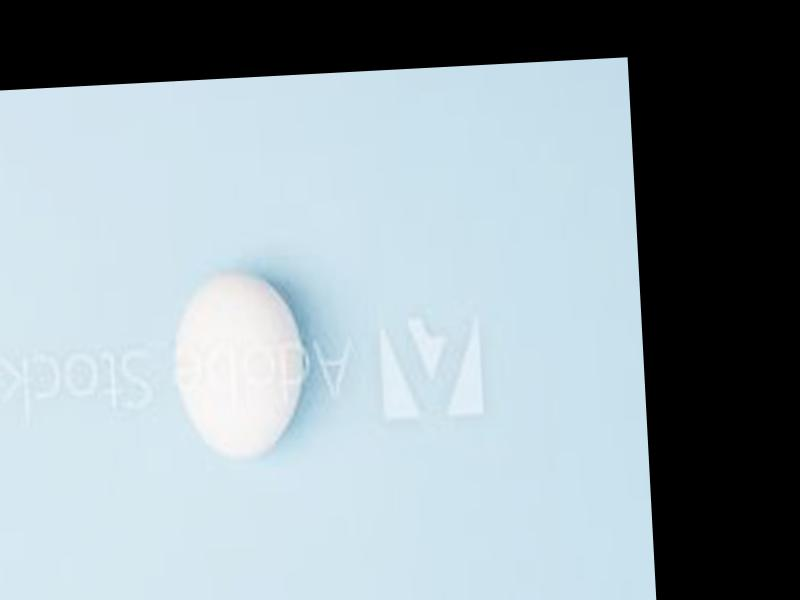Eggs: (172, 271, 307, 457)
